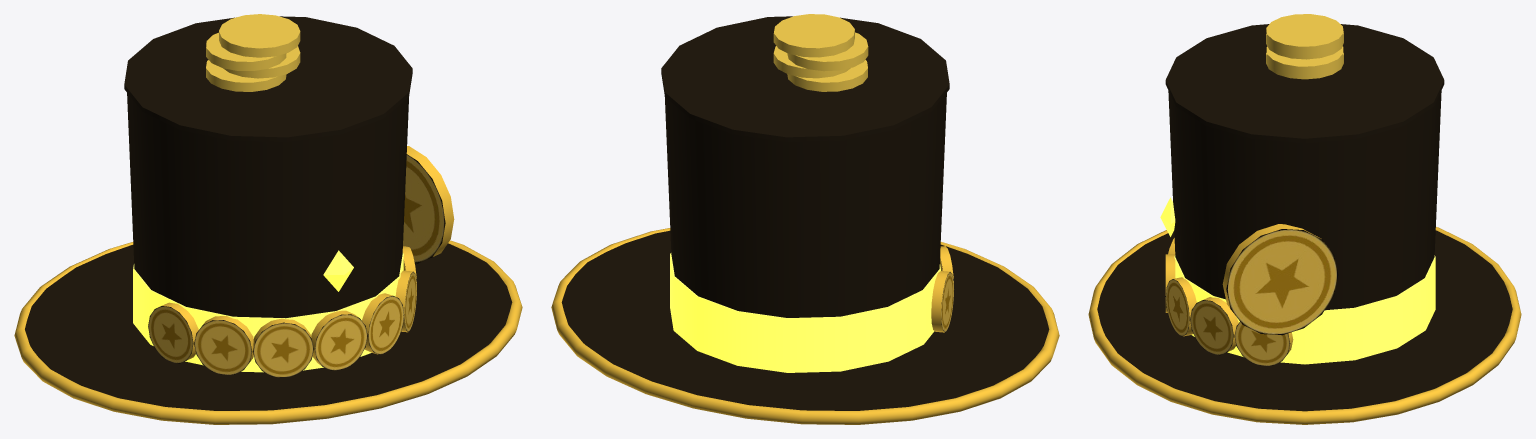
Rendered from hat_eqtz4.glb.
3 views of the same model, side by side, from view 1: azimuth 30°, elevation 25°; view 2: azimuth 150°, elevation 25°; view 3: azimuth 270°, elevation 25° (orthographic). The views are drawn at different scales.
Bounding box in the file's own units: 2.99 × 1.88 × 2.57.
Materials: 6 (1 with a texture image).
